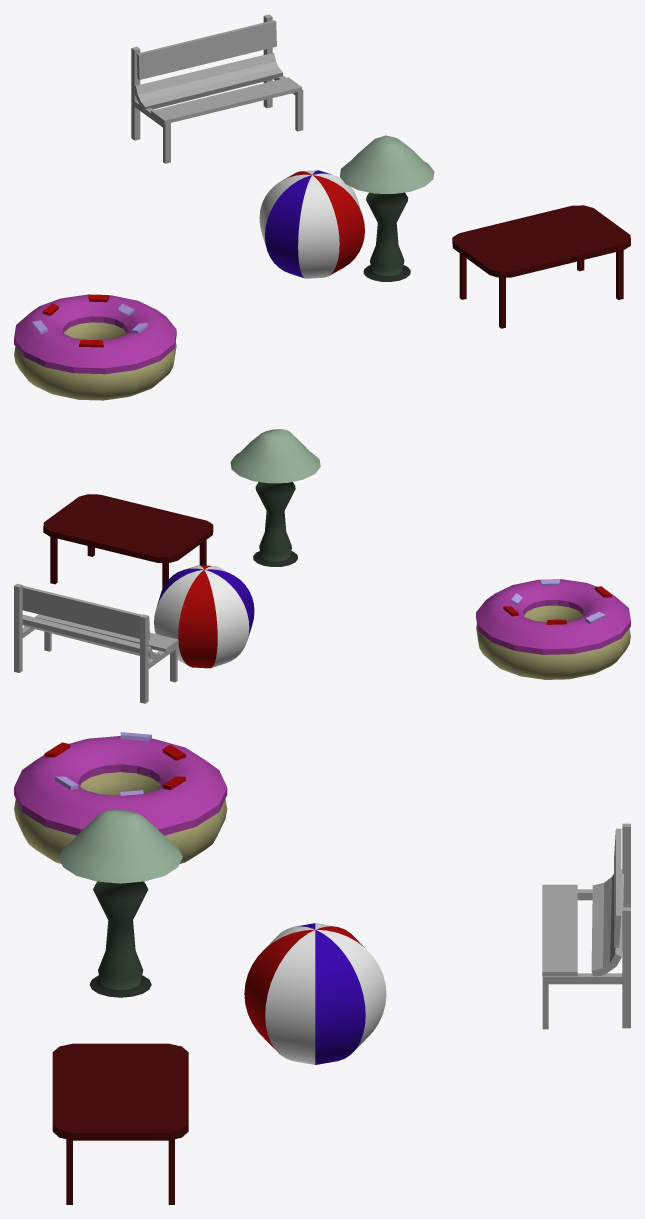
File: ObjectsAndStuff.fbx
3 renders of one model, top to bottom at view 1: azimuth 30°, elevation 25°; view 2: azimuth 150°, elevation 25°; view 3: azimuth 270°, elevation 25°, orthographic. The views are drawn at different scales.
Visible parts, largest first — view 1: pTorus1, pCube7, pCube8, pSphere1, pCylinder1; view 2: pTorus1, pCube8, pSphere1, pCube7, pCylinder1; view 3: pTorus1, pSphere1, pCube8, pCylinder1, pCube7.
Boxes of the visible parts, left/top/right/bottom form: pTorus1: left=14, top=294, right=176, bottom=400; pCube7: left=131, top=14, right=303, bottom=163; pCube8: left=452, top=205, right=630, bottom=328; pSphere1: left=259, top=170, right=364, bottom=278; pCylinder1: left=340, top=135, right=434, bottom=281; pTorus1: left=476, top=579, right=630, bottom=679; pCube8: left=43, top=494, right=213, bottom=588; pSphere1: left=154, top=565, right=254, bottom=668; pCube7: left=14, top=583, right=178, bottom=703; pCylinder1: left=230, top=429, right=320, bottom=566; pTorus1: left=14, top=732, right=227, bottom=863; pSphere1: left=244, top=923, right=386, bottom=1064; pCube8: left=52, top=1043, right=188, bottom=1204; pCylinder1: left=58, top=809, right=182, bottom=997; pCube7: left=542, top=823, right=630, bottom=1029.
Size of the model in its own units: 12.42 by 3.96 by 8.68.
